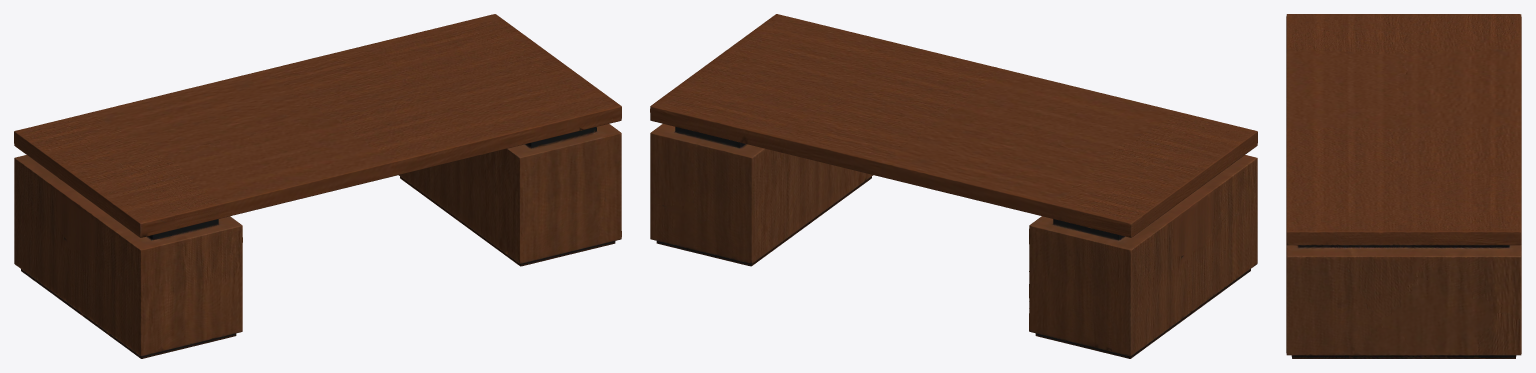
Rendered from desk.glb.
3 views of the same model, side by side, from view 1: azimuth 30°, elevation 25°; view 2: azimuth 150°, elevation 25°; view 3: azimuth 270°, elevation 25° (orthographic). The views are drawn at different scales.
Parts seen in each view (by area): view 1: Mesh_0; view 2: Mesh_0; view 3: Mesh_0.
Boxes of the visible parts, bbox=[...] form: Mesh_0: bbox=[14, 14, 621, 358]; Mesh_0: bbox=[650, 14, 1257, 358]; Mesh_0: bbox=[1286, 14, 1521, 358].
Size of the model in its own units: 1.11 by 0.3058 by 0.5057.
Materials: 1 (1 with a texture image).
